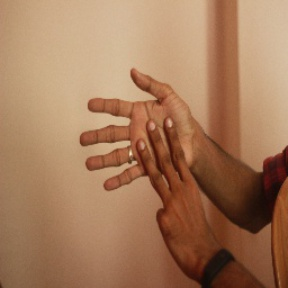M: (81, 65, 203, 218)
